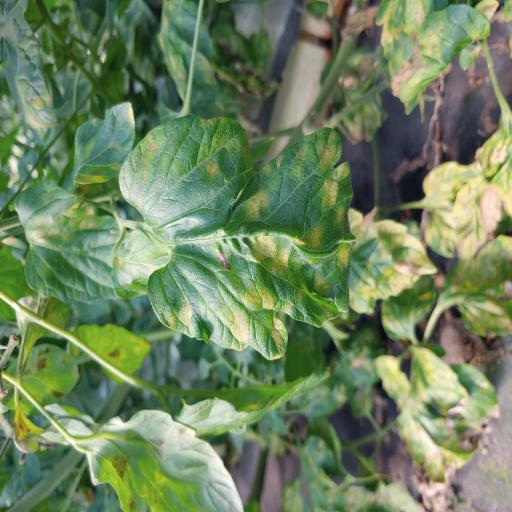Leaf Mold: (118, 114, 356, 362), (15, 182, 170, 305), (89, 408, 244, 512), (349, 202, 438, 317), (70, 100, 136, 183)
